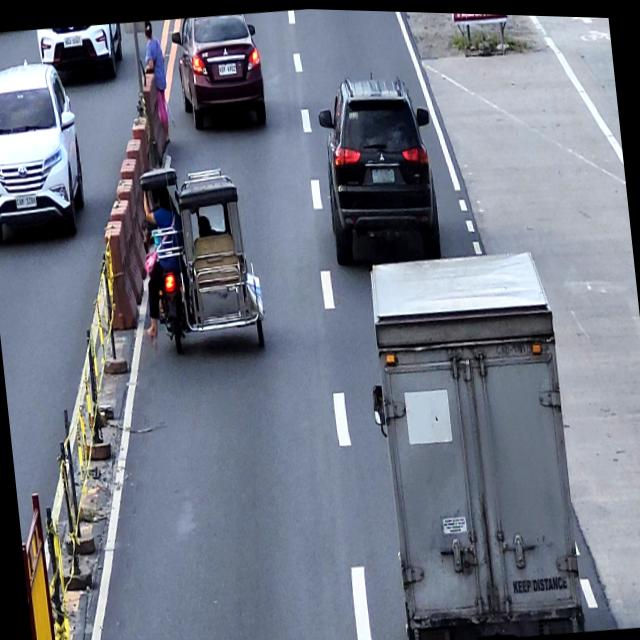Car: (314, 65, 444, 267), (0, 52, 88, 246), (169, 8, 268, 132), (35, 20, 125, 84)
License-Plate: (371, 164, 395, 182), (15, 191, 38, 209), (217, 60, 237, 75), (63, 33, 83, 48)
Tricycle: (136, 155, 268, 358)
Truck: (358, 239, 586, 640)
